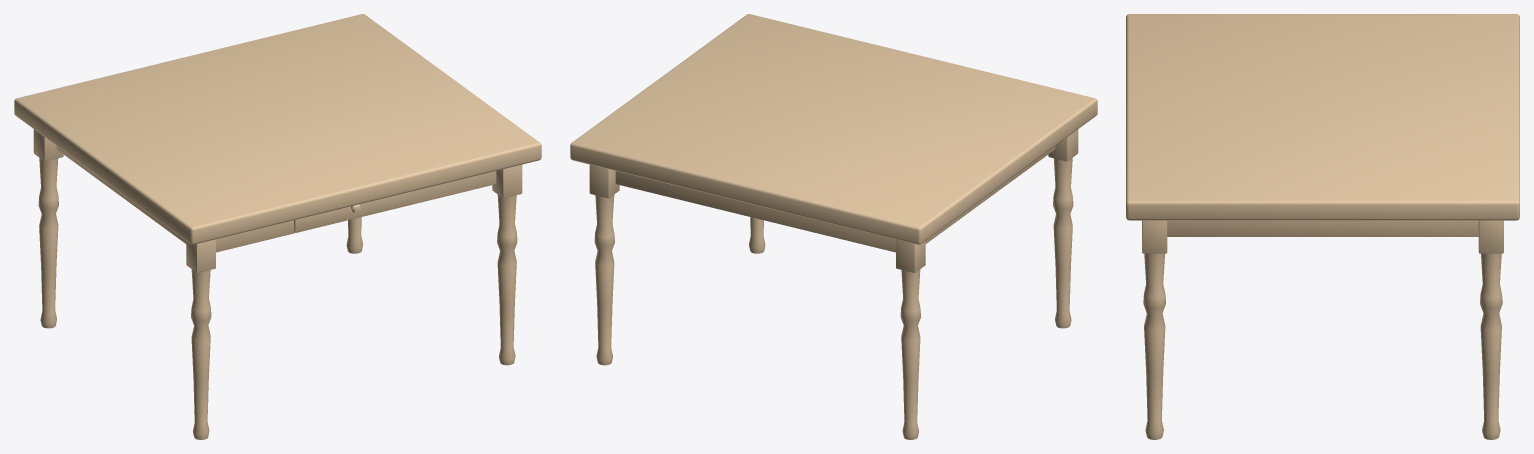
Rendered from table.glb.
The picture shows the model from 3 angles, left to right: view 1: azimuth 30°, elevation 25°; view 2: azimuth 150°, elevation 25°; view 3: azimuth 270°, elevation 25°; orthographic projection. The views are drawn at different scales.
Visible parts, largest first — view 1: table; view 2: table; view 3: table.
Part boxes in pixels (x1,y1,x2,y2): table: (14, 14, 541, 439); table: (570, 14, 1097, 439); table: (1126, 14, 1519, 439).
Bounding box in the file's own units: 1.25 × 0.76 × 1.1.
